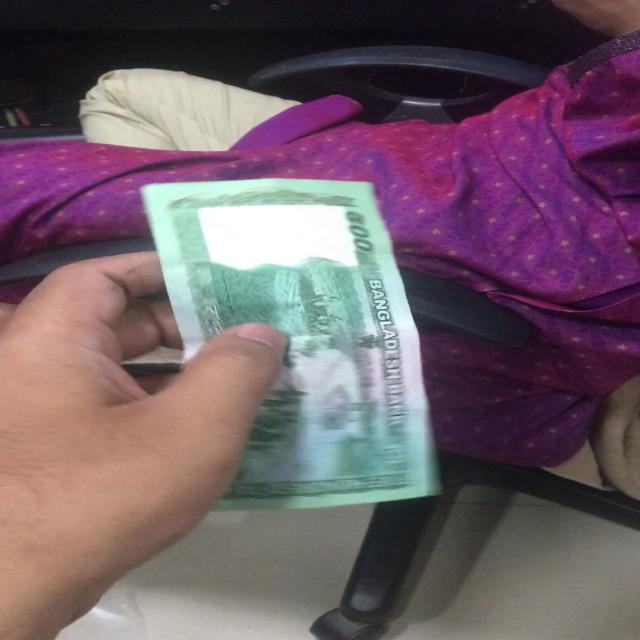Taka: (145, 183, 430, 505)
